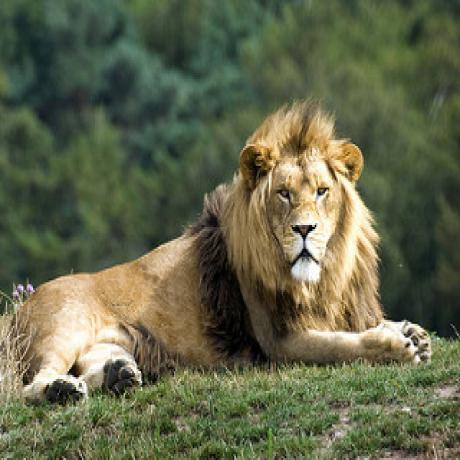Lion: (0, 95, 436, 408)
